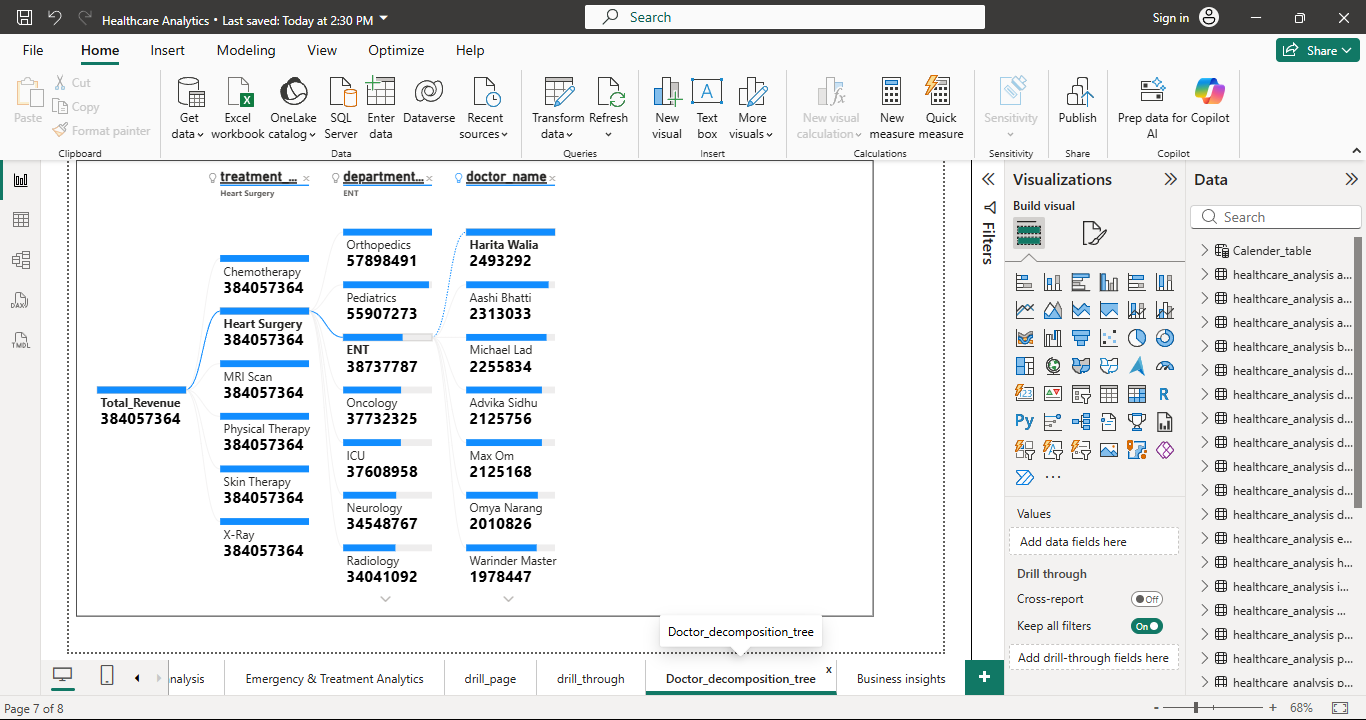

This screenshot's page, from the dashboard's own definition file:
{"tool":"powerbi","page":{"name":"Doctor_decomposition_tree","canvas":[1280,720],"ordinal":6},"visuals":[{"type":"decompositionTreeVisual","fields":{"Analyze":["measure_box.Total_Revenue"],"ExplainBy":["healthcare_analysis treatments.treatment_name","healthcare_analysis departments.department_name","healthcare_analysis doctors.doctor_name"]},"box":[10.9,0,1167.4,668.1],"z":0}]}

Visuals, with their boxes on the page's 1280x720 design canvas (x1, y1, x2, y2). These are canvas units, not pixel positions in the 1366x720 screenshot, which may show the page scaled, cropped or inside an application window:
decompositionTreeVisual - measure_box.Total_Revenue x healthcare_analysis treatments.treatment_name: region(11, 0, 1178, 668)
